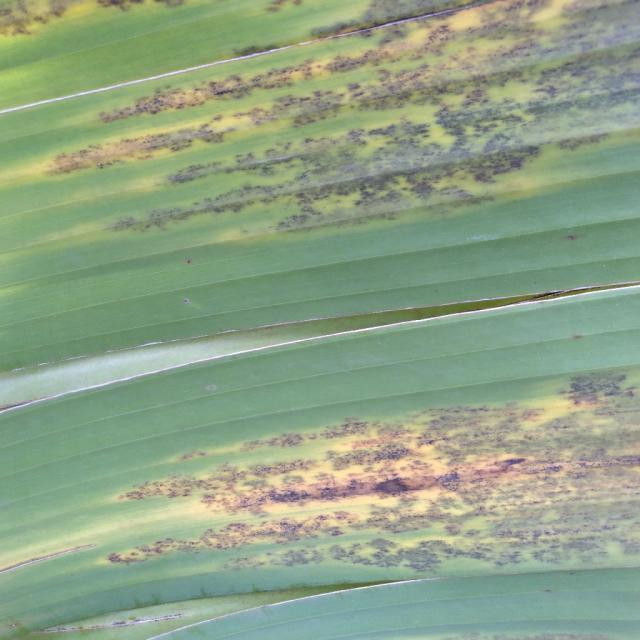Early_rust: (16, 350, 640, 640), (0, 0, 633, 236)
